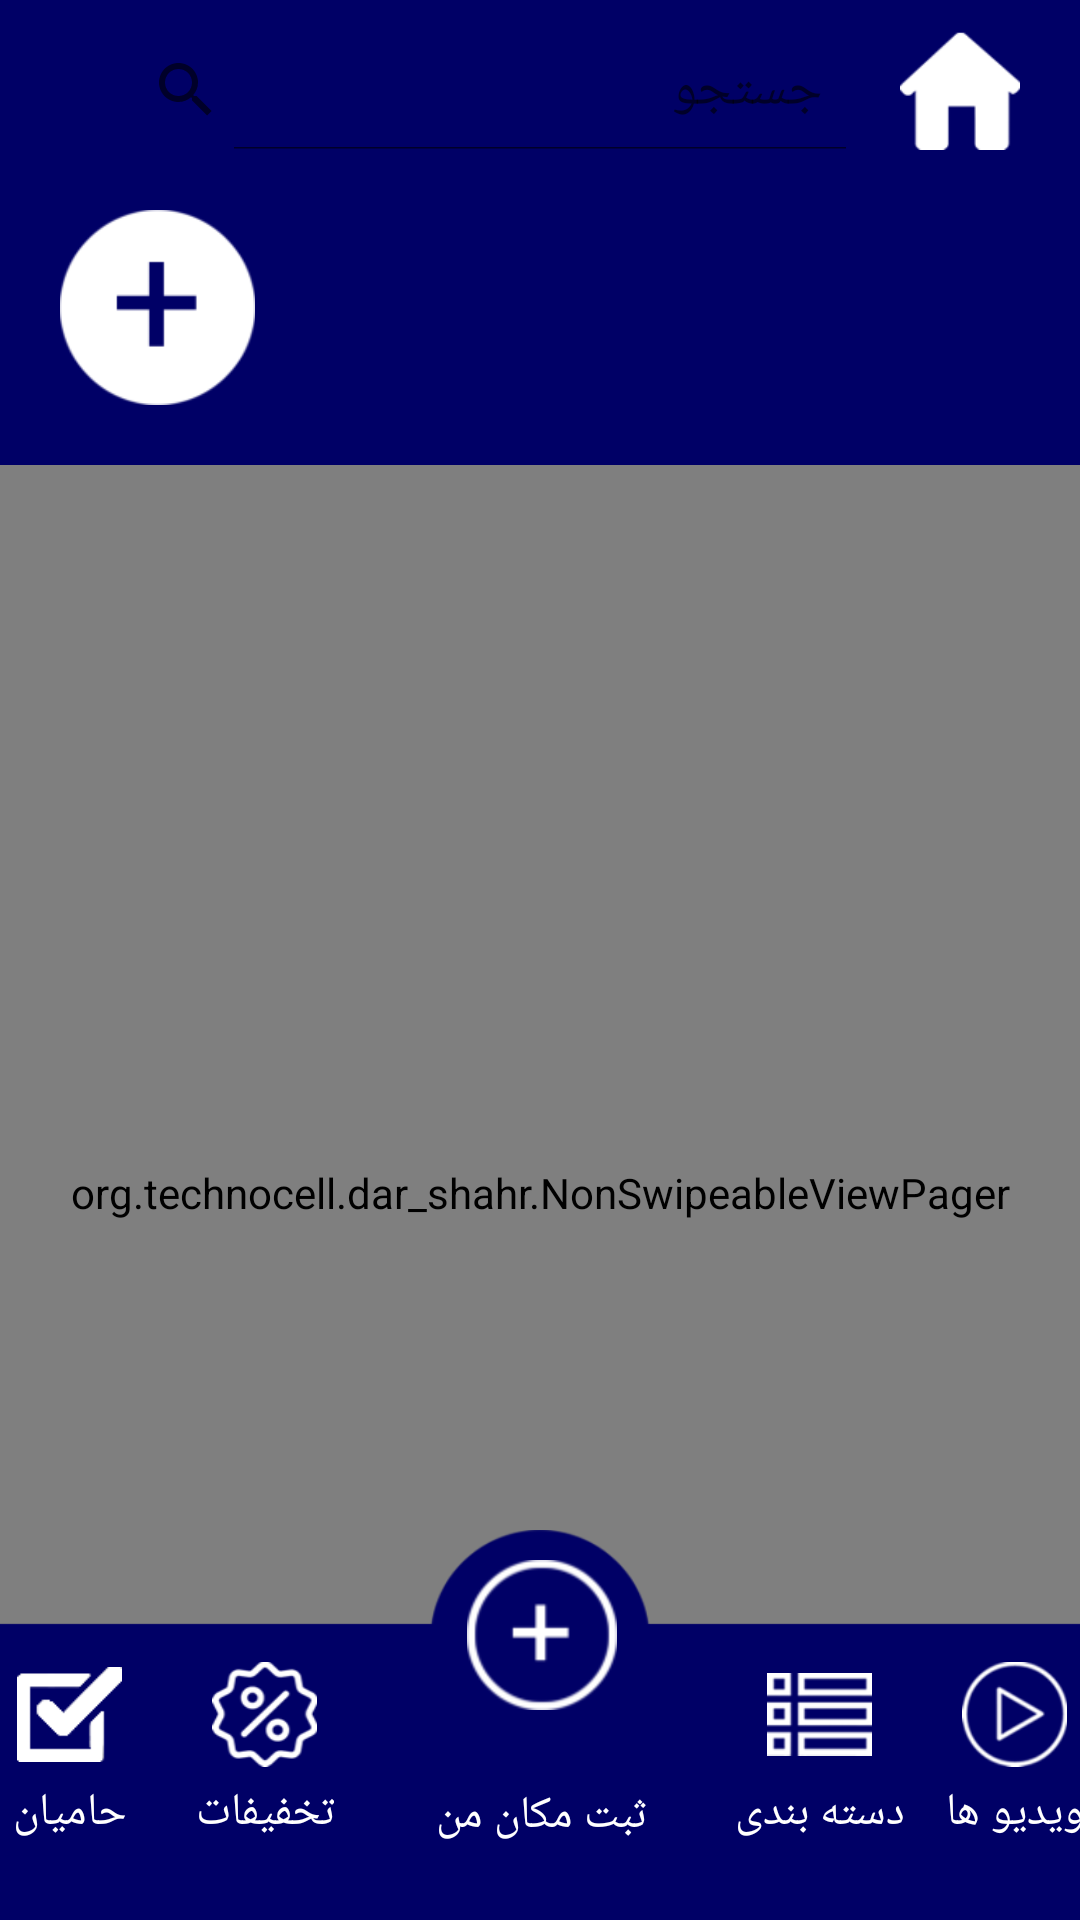

Where icons sit on this 1080×1920 app screen, as (x1, y1, x2, y2):
home: (900, 32, 1020, 150)
plus: (60, 210, 255, 405)
